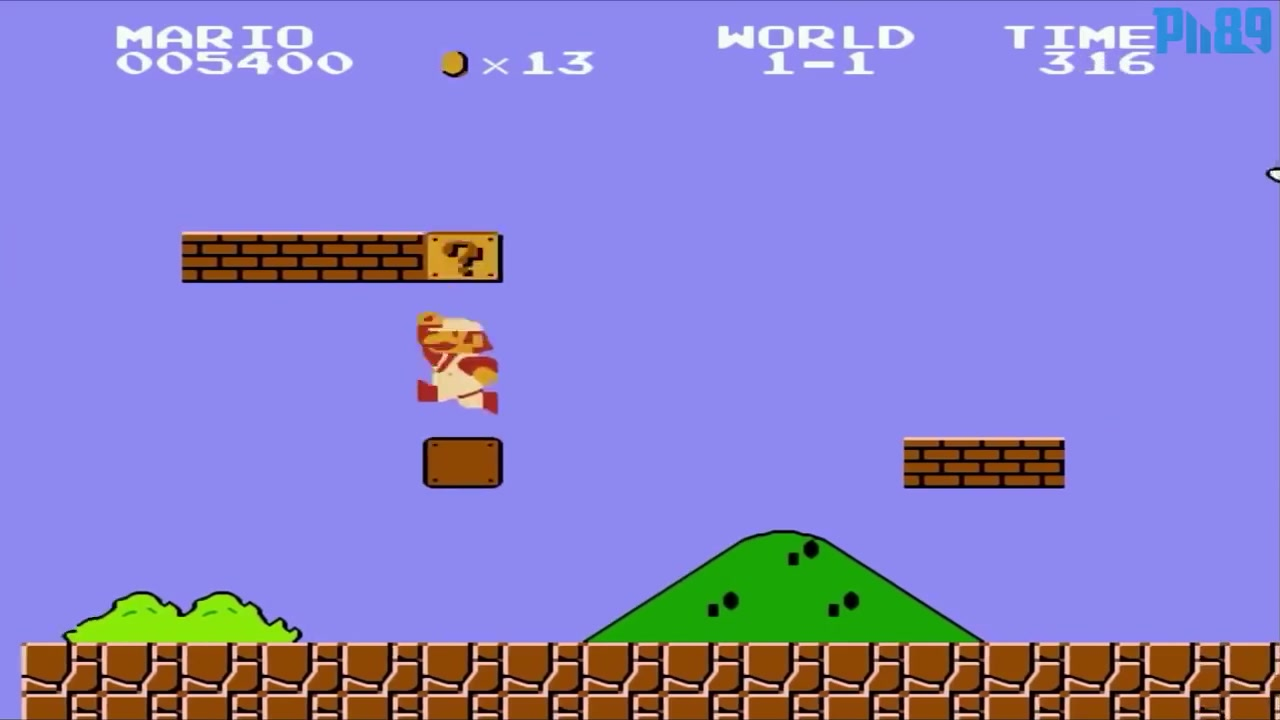mario: (402, 310, 502, 425)
